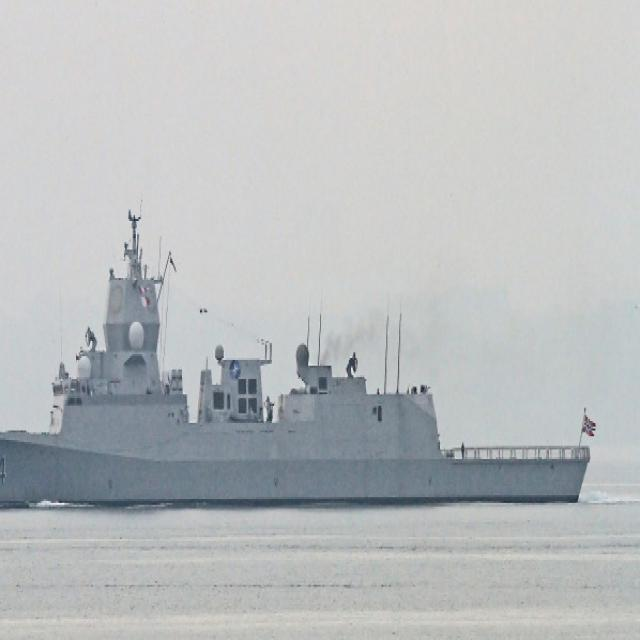Fragata: (1, 197, 594, 519)
